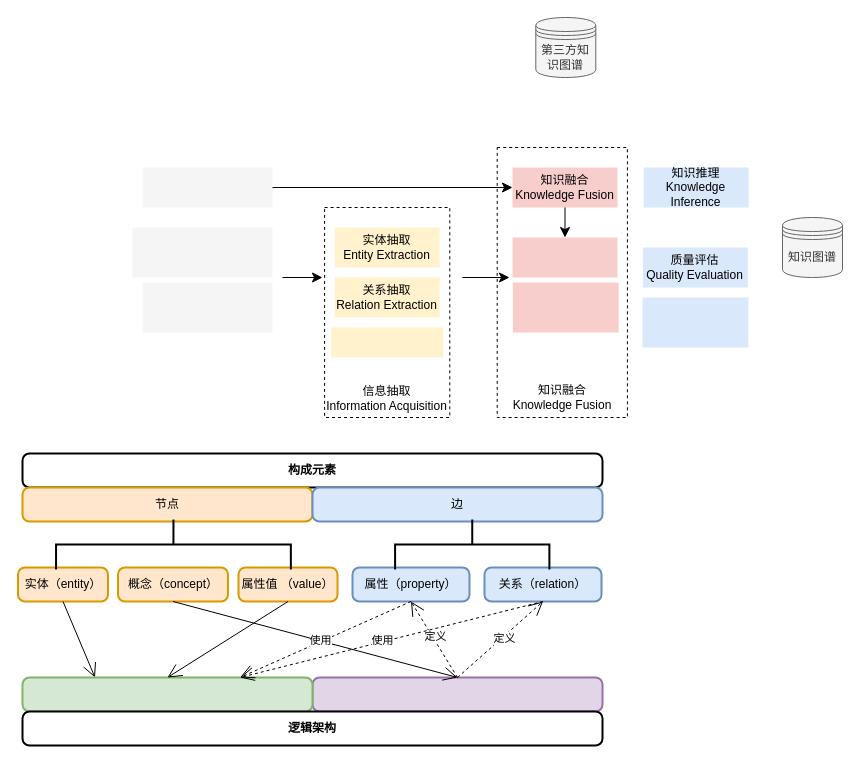
The diagram is 860 pixels wide and 764 high, and some of its shapes have lost their labels. The shapes that lost their labels are listed below. From the top down, each one's box as (x1, y1, x2, y2) in pixels, then its label:
(142, 167, 272, 207): 结构化数据 （Structed Data） 如关系数据库
(132, 227, 272, 277): 半结构化数据 （Semi-Structed Data） 如XML、JSON、百科
(512, 237, 617, 277): 指代消解 Coreference Resolution
(142, 282, 272, 332): 非结构化数据 （Unstructed Data） 如图片、音频、视频
(512, 282, 618, 332): 实体消歧 Entity Disambiguation
(642, 297, 748, 347): 本体抽取 Ontology Extraction
(331, 327, 443, 357): 属性抽取 Attribute Extraction
(21, 676, 313, 712): 数据层（存储真实的数据）
(311, 676, 603, 712): 模式层（经过提炼的知识）
